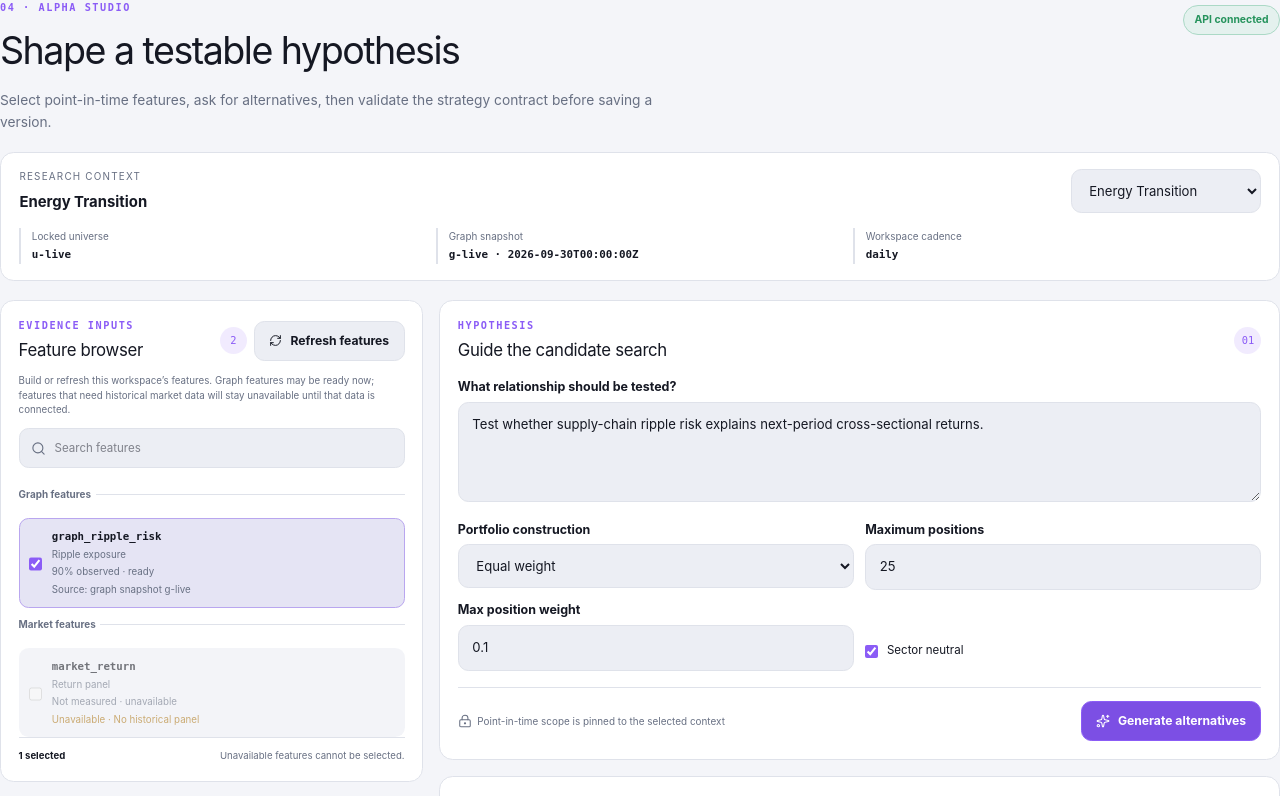
feature search and selection keeps unavailable features disabled
This screenshot has width=1280, height=796.
Expected: the text "Ripple exposure" is shown, [52,549,126,560]
Type "market" into the field labelled "Search features" at [224, 448], box [55,429,392,467]
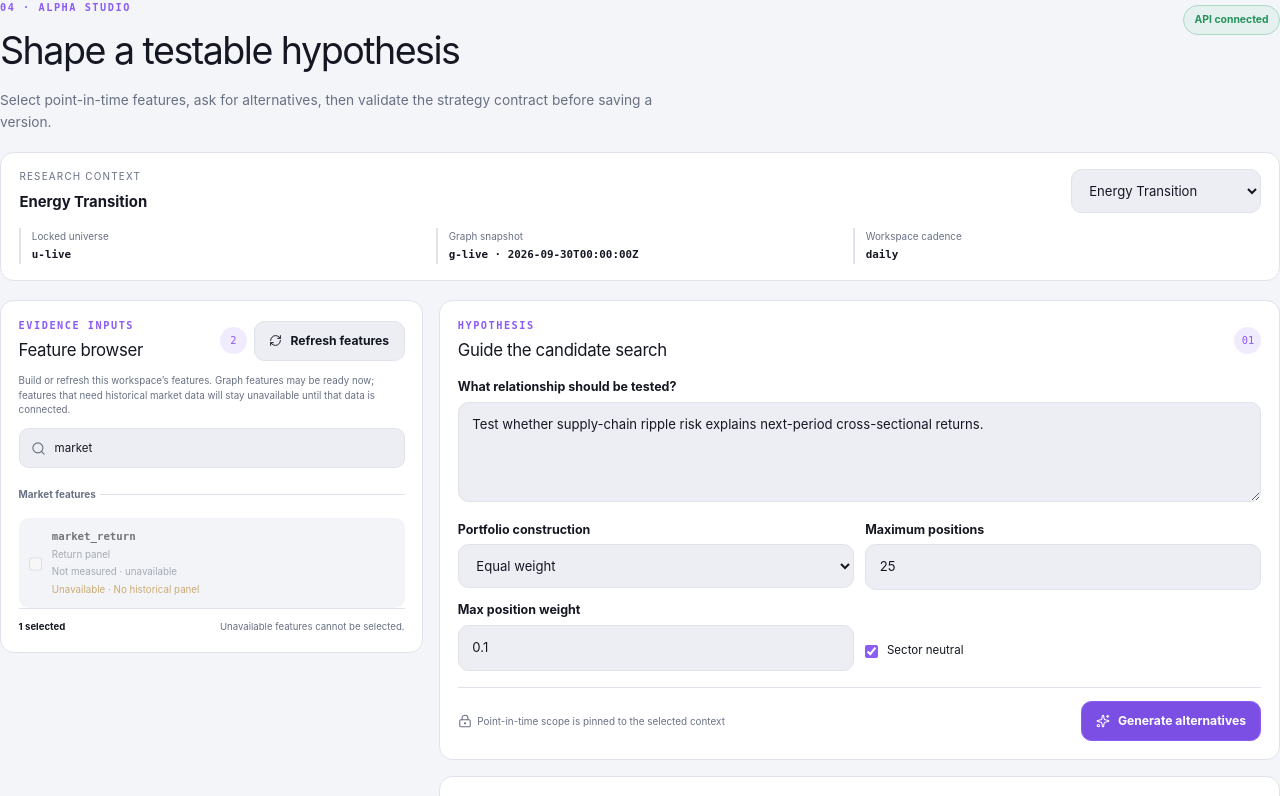
Expected: the text "market_return" is shown, [52,530,136,543]
Expected: the text "graph_ripple_risk" is gone
